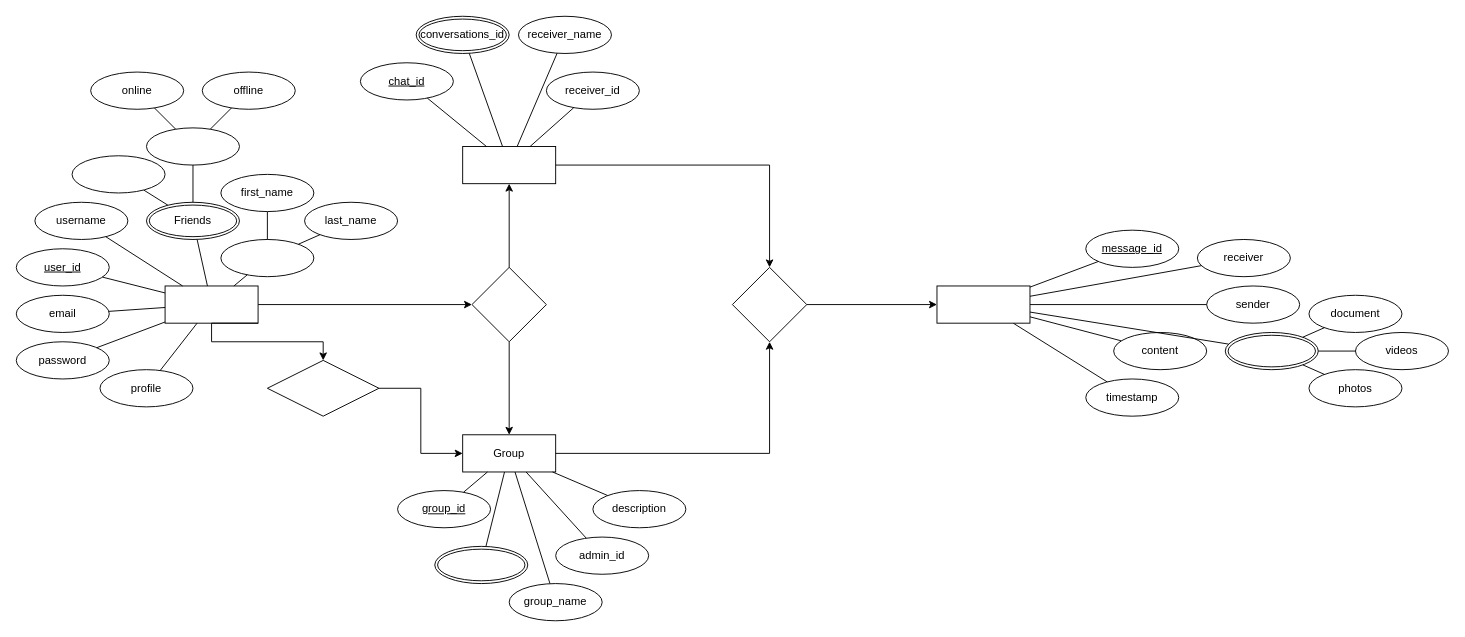
This 1465x637 diagram has some shape labels left out. The centre of each missing label's shape, as x and y in pixels:
attachment: the point at 1271,351
Chat: the point at 509,165
friendship_id: the point at 118,174
Manages: the point at 322,387
Message: the point at 983,304
name: the point at 267,258
Sends message: the point at 508,304
status: the point at 192,146
Store_fetch: the point at 769,304
User: the point at 211,304
user_ids: the point at 481,564
